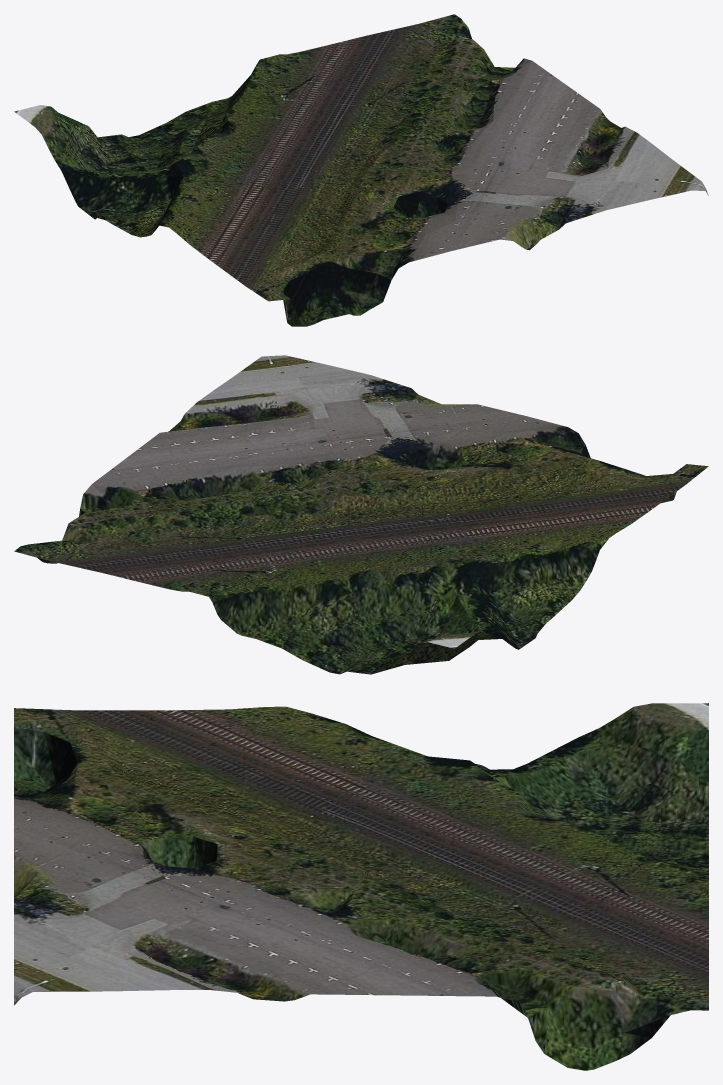
File: map_15_8182_13787.dae
The picture shows the model from 3 angles, top to bottom: view 1: azimuth 30°, elevation 25°; view 2: azimuth 150°, elevation 25°; view 3: azimuth 270°, elevation 25°; orthographic projection. The views are drawn at different scales.
Visible parts, largest first — view 1: Ter0; view 2: Ter0; view 3: Ter0.
Boxes of the visible parts, x1,y1,x2,y2 form: Ter0: (14, 14, 708, 326); Ter0: (14, 355, 708, 674); Ter0: (14, 703, 708, 1070).
Bounding box in the file's own units: 63.88 × 63.88 × 8.2.
2 materials, 2 textured.
